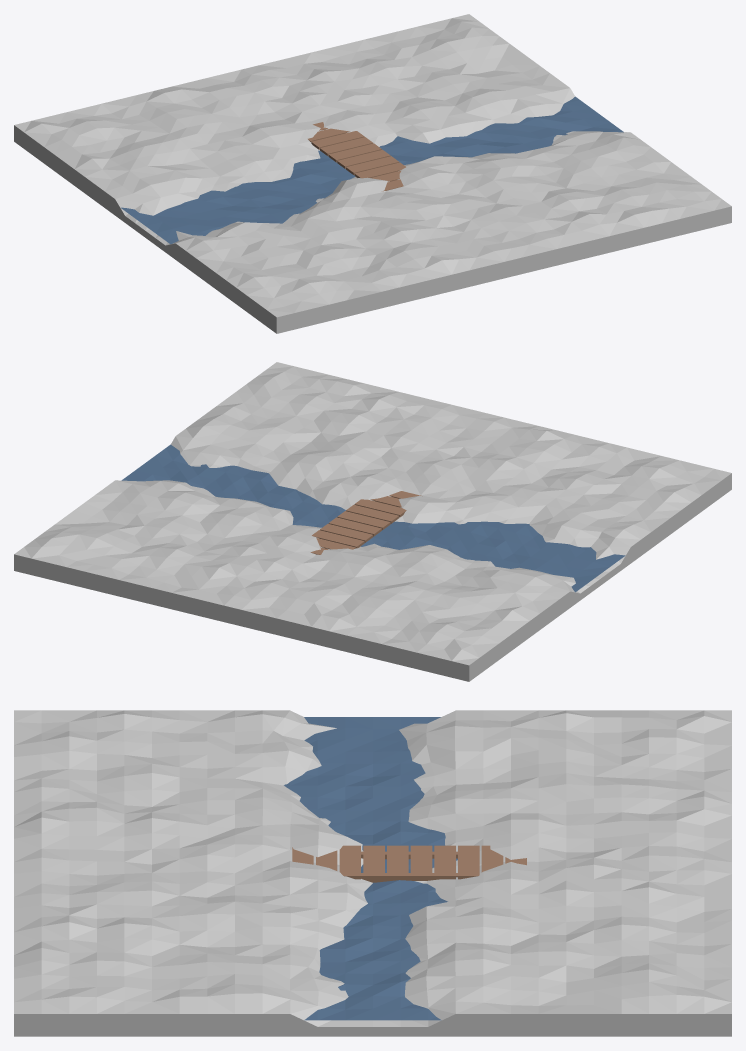
Rendered from WaterBridgeTile.fbx.
3 views of the same model, one above another, from view 1: azimuth 30°, elevation 25°; view 2: azimuth 150°, elevation 25°; view 3: azimuth 270°, elevation 25° (orthographic). The views are drawn at different scales.
Parts seen in each view (by area): view 1: WaterBridgeTile.001; view 2: WaterBridgeTile.001; view 3: WaterBridgeTile.001.
Boxes of the visible parts, box(x1,y1,x2,y2) form: WaterBridgeTile.001: box(14, 14, 731, 333); WaterBridgeTile.001: box(14, 362, 731, 681); WaterBridgeTile.001: box(14, 710, 731, 1036).
Size of the model in its own units: 1000 by 50.25 by 1000.
